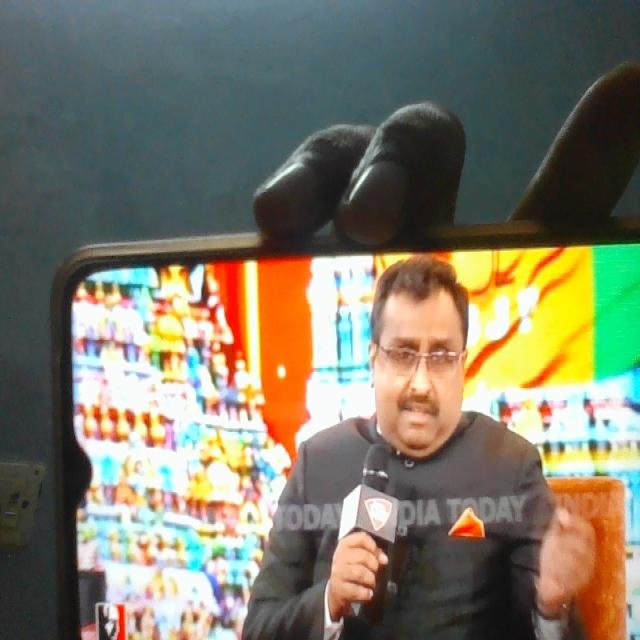fake: (359, 236, 477, 460)
